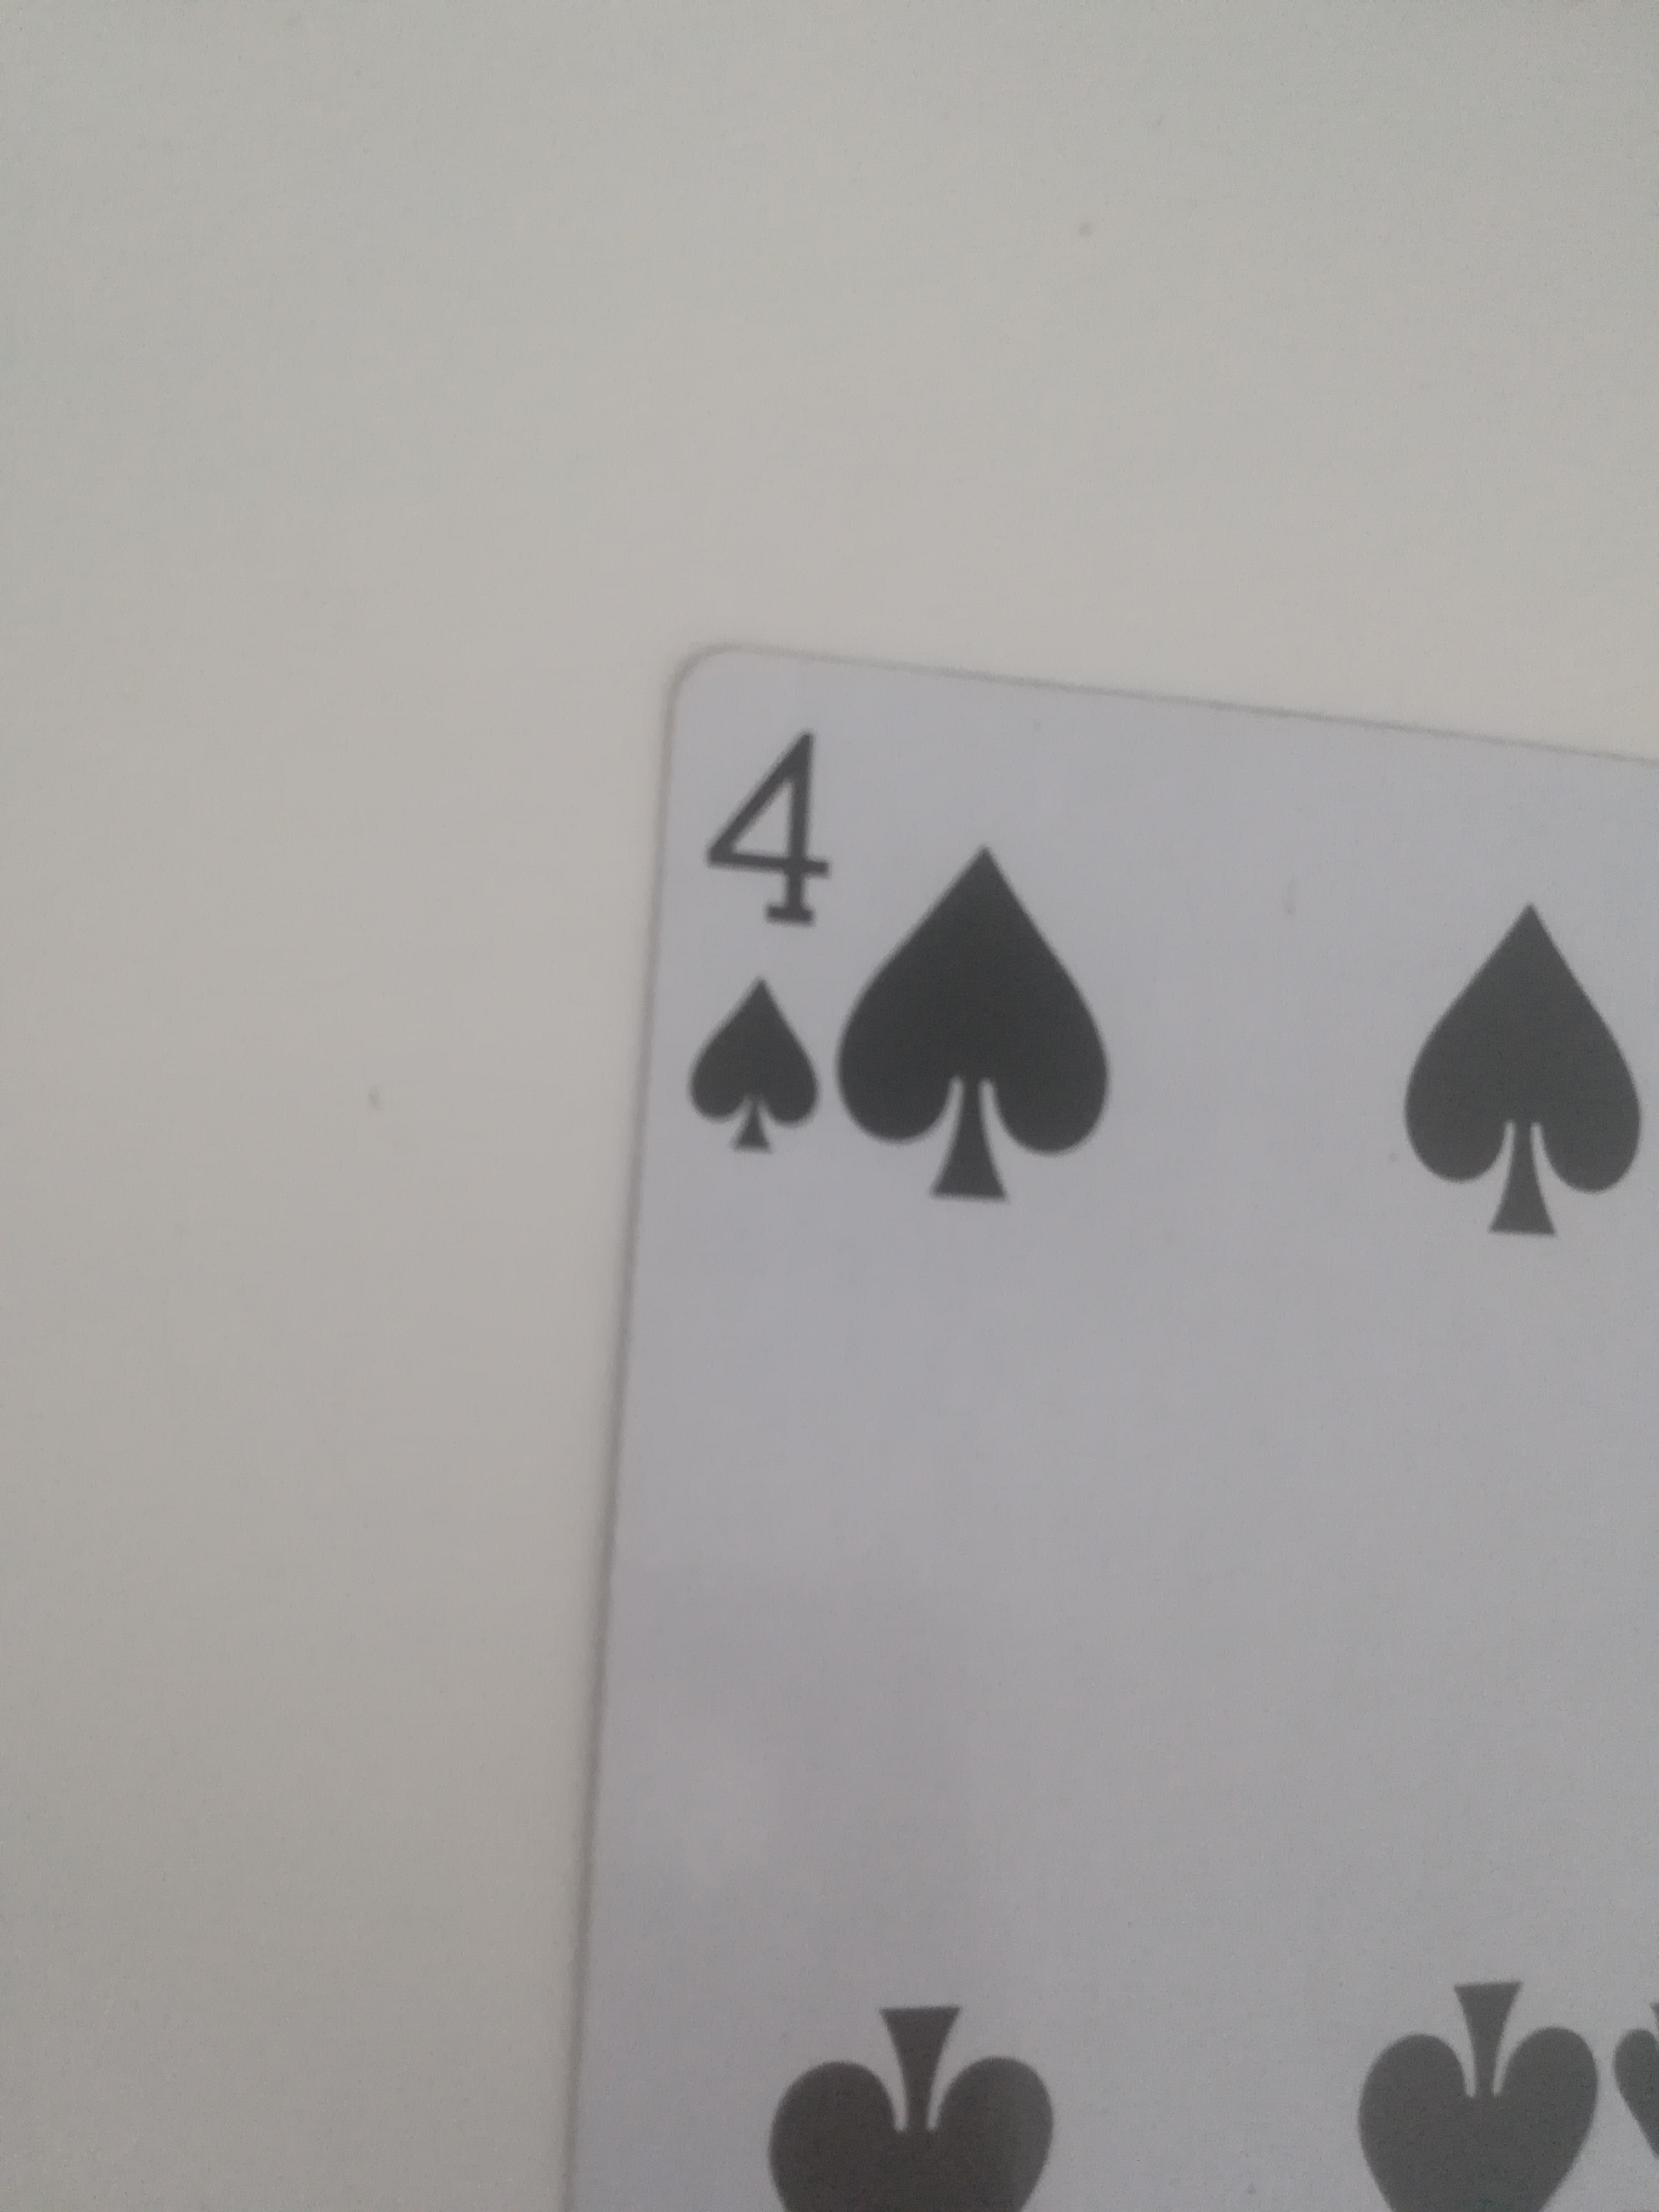4S: (556, 611, 1656, 2212)
